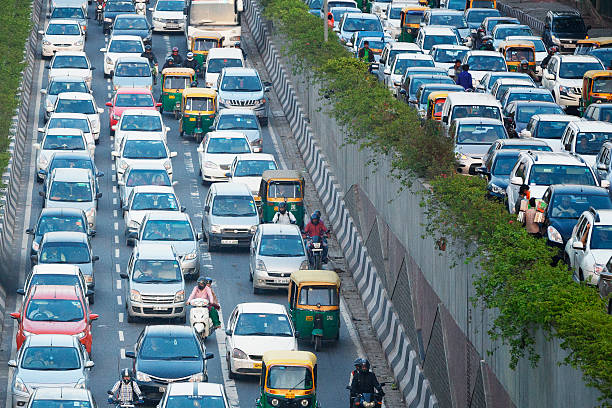bike: (186, 274, 214, 340), (352, 359, 382, 408), (308, 210, 326, 268)
bus: (187, 1, 240, 51)
car: (11, 334, 85, 408), (18, 286, 90, 357), (510, 152, 588, 210), (227, 308, 294, 373), (126, 248, 185, 318), (134, 326, 203, 383), (541, 52, 604, 110), (38, 233, 94, 296), (249, 223, 306, 283), (141, 212, 198, 272), (483, 137, 546, 189), (567, 208, 612, 280), (451, 118, 509, 173), (203, 184, 255, 244), (549, 189, 607, 241), (116, 136, 173, 186), (47, 169, 95, 228), (35, 131, 90, 180), (125, 186, 178, 235), (218, 68, 267, 118), (198, 137, 247, 183), (564, 123, 612, 168), (230, 158, 278, 200), (31, 208, 83, 246), (214, 109, 260, 151), (464, 51, 509, 93), (443, 96, 494, 133), (509, 97, 558, 135), (423, 10, 469, 49), (57, 94, 99, 136), (52, 112, 94, 153), (545, 12, 588, 52), (207, 50, 246, 94), (45, 77, 88, 113), (42, 18, 82, 56), (338, 13, 380, 49), (111, 91, 155, 123), (381, 42, 415, 83), (50, 54, 89, 88), (113, 16, 152, 50), (417, 27, 458, 58), (105, 37, 142, 70), (152, 1, 186, 36), (116, 59, 151, 92), (52, 4, 89, 33), (393, 57, 427, 88)
rickshaw: (288, 272, 343, 352), (260, 351, 318, 408), (260, 170, 305, 222), (162, 70, 194, 119), (182, 91, 215, 137), (499, 42, 536, 75), (192, 33, 221, 75), (582, 71, 612, 109), (401, 6, 430, 43)
